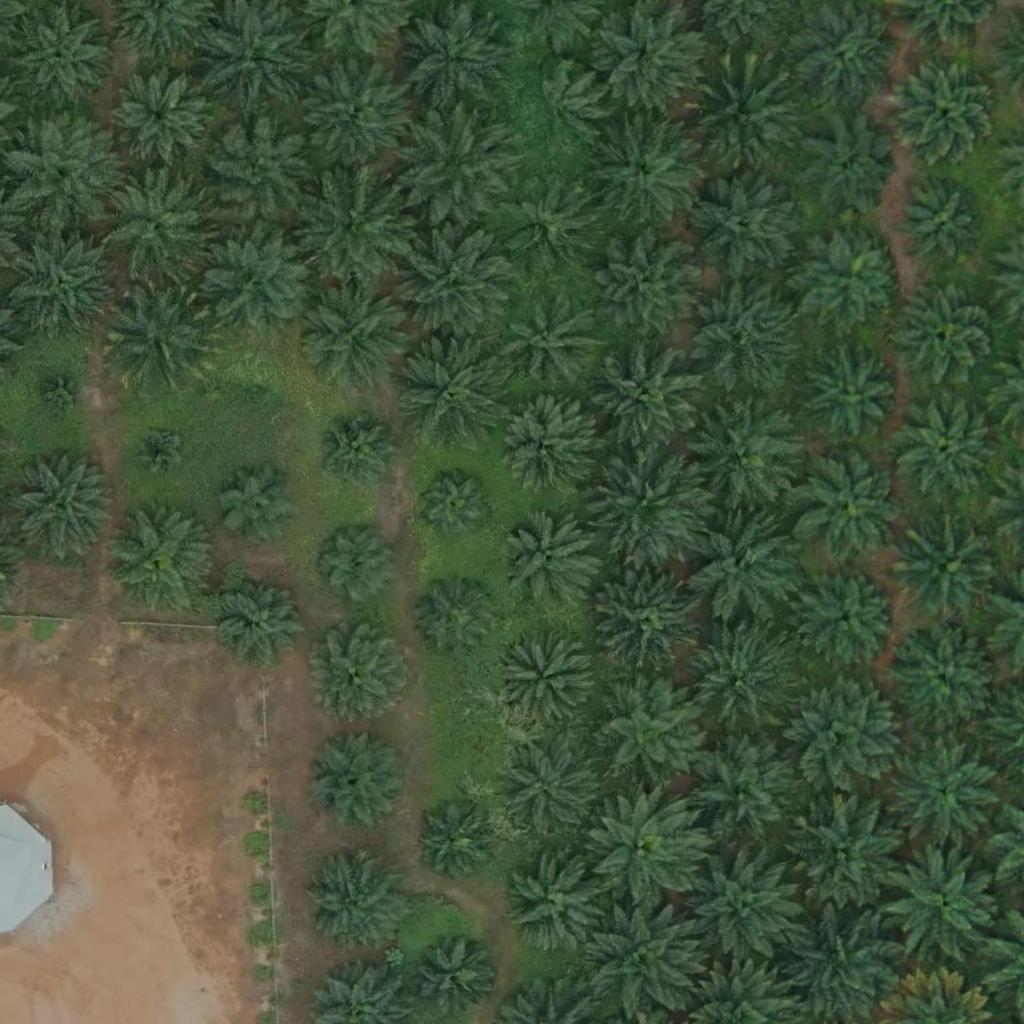Kelapa_Sawit: (394, 327, 507, 441), (297, 58, 410, 172), (294, 168, 407, 282), (890, 54, 1003, 167), (689, 167, 802, 280), (685, 277, 798, 390), (594, 1, 707, 114), (585, 114, 698, 227), (591, 231, 704, 344), (299, 278, 412, 391), (201, 118, 314, 231), (593, 449, 706, 562), (594, 566, 707, 679), (690, 397, 803, 510), (687, 511, 800, 624), (681, 622, 794, 735), (689, 737, 802, 850), (789, 677, 902, 790), (792, 791, 905, 904), (791, 909, 904, 1022), (591, 342, 703, 456), (398, 108, 510, 222), (400, 225, 512, 339), (104, 503, 216, 617), (589, 906, 701, 1020), (103, 279, 215, 392), (686, 62, 798, 175), (396, 2, 508, 115), (206, 225, 318, 338), (101, 169, 213, 282), (1, 115, 113, 228), (5, 222, 117, 335), (5, 453, 117, 566), (589, 675, 701, 788), (588, 796, 700, 909), (691, 848, 803, 961), (794, 451, 906, 564), (889, 390, 1001, 503), (896, 517, 1008, 630), (889, 623, 1001, 736), (889, 742, 1001, 855), (886, 848, 998, 961), (895, 285, 995, 386), (791, 2, 891, 103), (800, 118, 900, 219), (801, 228, 901, 329), (798, 342, 898, 443), (110, 66, 210, 167), (12, 7, 112, 108), (302, 850, 402, 951), (494, 399, 594, 500), (500, 511, 600, 612), (495, 629, 595, 730), (800, 568, 900, 669), (498, 175, 598, 275), (502, 294, 602, 394), (312, 624, 412, 724), (307, 731, 407, 831), (505, 743, 605, 843), (507, 856, 607, 956), (899, 180, 987, 268), (515, 65, 603, 153), (221, 576, 309, 664), (215, 461, 302, 549), (314, 411, 401, 499), (311, 520, 398, 608), (413, 575, 500, 663), (411, 931, 498, 1019), (418, 803, 493, 879), (416, 467, 491, 542), (39, 369, 89, 420), (133, 425, 183, 476), (230, 362, 280, 412)
